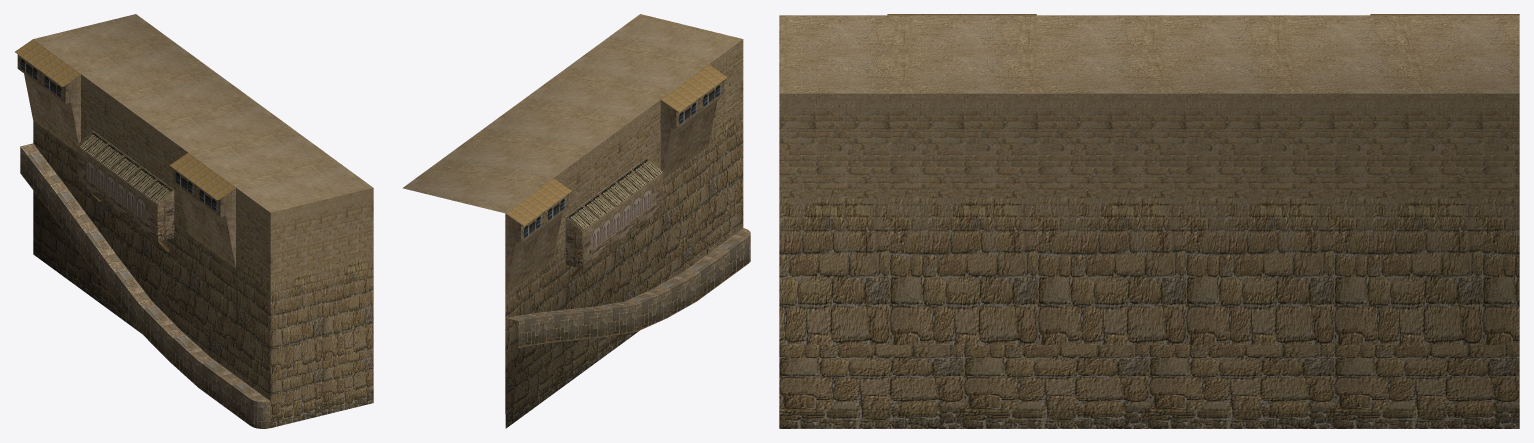
File: M7Z4_FortWall4_F.glb
The picture shows the model from 3 angles, left to right: view 1: azimuth 30°, elevation 25°; view 2: azimuth 150°, elevation 25°; view 3: azimuth 270°, elevation 25°; orthographic projection. The views are drawn at different scales.
Parts seen in each view (by area): view 1: M7Z4_FORTWALL4_F; view 2: M7Z4_FORTWALL4_F; view 3: M7Z4_FORTWALL4_F.
Boxes of the visible parts, box(x1,y1,x2,y2) form: M7Z4_FORTWALL4_F: box(15, 14, 373, 428); M7Z4_FORTWALL4_F: box(402, 14, 750, 428); M7Z4_FORTWALL4_F: box(779, 14, 1519, 428).
Bounding box in the file's own units: 9.46 × 16 × 32.
11 materials, 11 textured.
